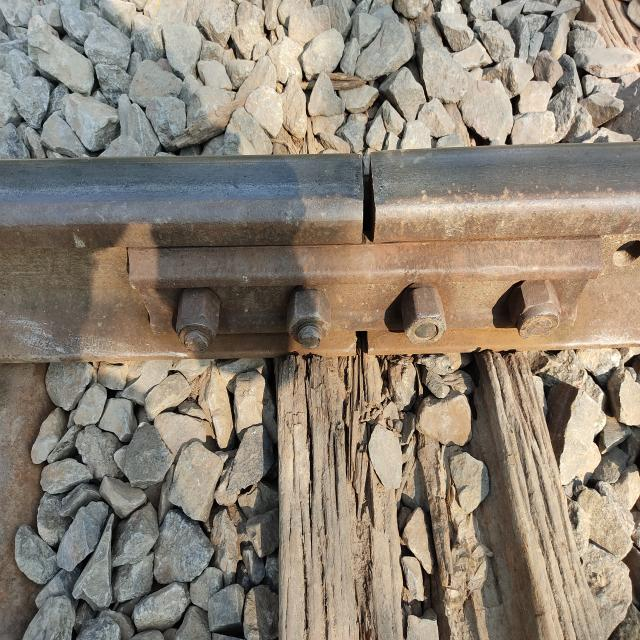defective: (236, 152, 540, 377)
